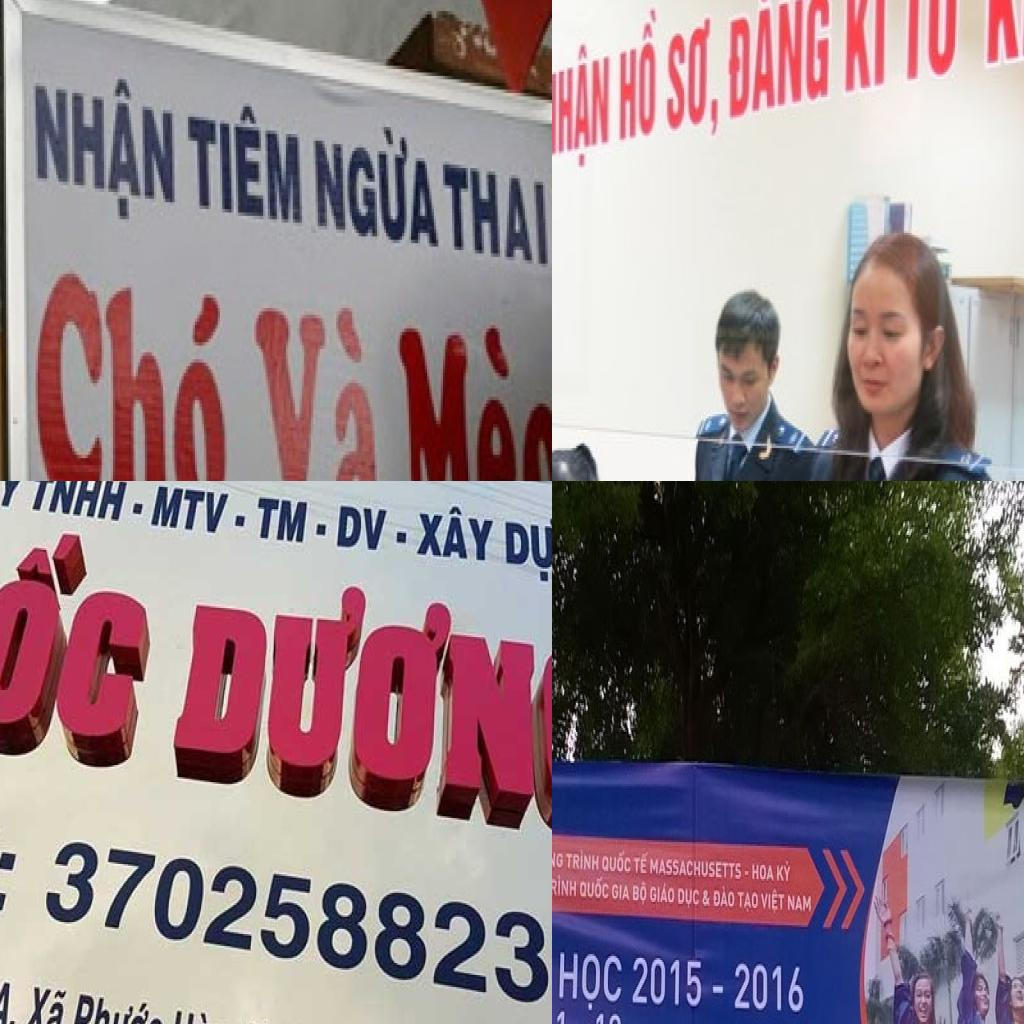text: (156, 570, 552, 862), (30, 831, 552, 1022), (0, 505, 181, 811), (33, 270, 231, 481), (397, 318, 552, 481), (249, 308, 388, 481), (36, 66, 176, 230), (313, 114, 443, 254), (188, 96, 304, 230), (722, 0, 834, 126), (443, 165, 550, 267), (552, 27, 613, 181), (662, 4, 724, 147), (615, 2, 661, 149), (896, 0, 970, 90), (412, 502, 501, 572), (839, 0, 896, 101), (630, 950, 708, 1014), (733, 956, 809, 1020), (556, 946, 626, 1014), (146, 483, 230, 538), (499, 507, 552, 592), (27, 481, 132, 522), (64, 985, 167, 1024), (334, 499, 393, 555), (254, 494, 311, 548), (19, 974, 73, 1024), (648, 854, 749, 880), (161, 998, 239, 1024), (0, 481, 34, 517), (0, 971, 19, 1024), (566, 848, 600, 877), (601, 848, 632, 879), (760, 886, 786, 920), (580, 877, 610, 904), (552, 873, 577, 904), (786, 890, 814, 916), (713, 884, 737, 914), (677, 884, 701, 912), (751, 860, 776, 886), (650, 884, 675, 908), (736, 890, 759, 916), (632, 848, 650, 879), (610, 881, 632, 906), (775, 860, 793, 890), (631, 881, 648, 908), (552, 842, 565, 873), (593, 1012, 624, 1024), (710, 979, 726, 1001), (554, 1006, 570, 1024), (702, 886, 712, 912)
